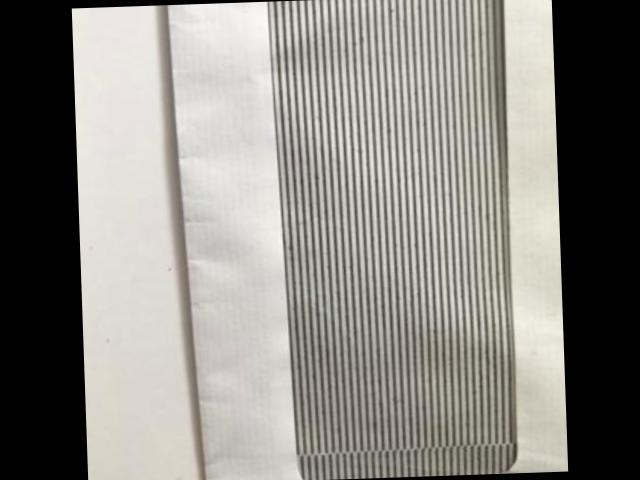cardboard paper: (164, 0, 568, 480)
